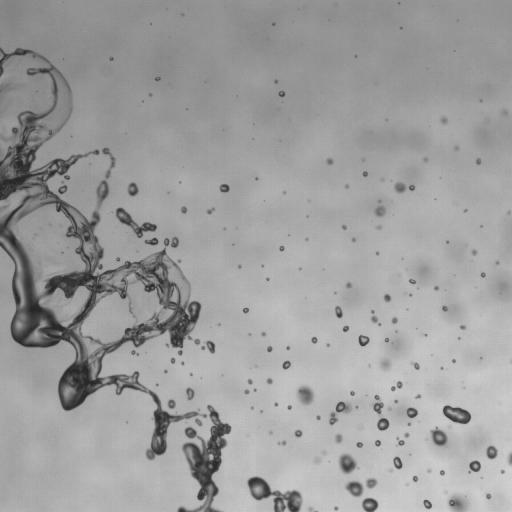droplet: (442, 405, 471, 424), (0, 82, 20, 105), (338, 453, 358, 474), (296, 385, 314, 405), (430, 427, 447, 446), (447, 494, 466, 511), (345, 480, 363, 497), (361, 497, 378, 511), (201, 340, 215, 353), (127, 182, 138, 196), (486, 445, 497, 459), (380, 358, 391, 370), (469, 460, 480, 472), (358, 335, 369, 346), (406, 407, 417, 418), (393, 456, 402, 469), (366, 478, 377, 488), (145, 237, 158, 245), (186, 387, 194, 400), (375, 206, 385, 216), (335, 306, 342, 318), (219, 184, 229, 192), (167, 399, 175, 409), (282, 360, 290, 369), (423, 500, 431, 509), (294, 429, 302, 437), (335, 434, 342, 443), (411, 362, 419, 369), (397, 438, 404, 445), (384, 294, 390, 302), (440, 117, 447, 123), (326, 158, 333, 164), (311, 336, 317, 343), (207, 208, 213, 214), (343, 325, 349, 331), (181, 206, 186, 213), (278, 91, 284, 96), (501, 109, 507, 114), (346, 282, 351, 288), (442, 305, 447, 311), (392, 317, 397, 323), (267, 346, 272, 352), (131, 350, 137, 355), (170, 357, 175, 363), (266, 378, 272, 383), (375, 440, 380, 446), (356, 442, 362, 447), (315, 457, 320, 463), (412, 475, 417, 481), (279, 441, 286, 445), (279, 246, 284, 251), (472, 250, 477, 255), (243, 308, 248, 313), (244, 389, 249, 394), (404, 432, 409, 437), (486, 493, 491, 498), (476, 158, 480, 164), (415, 394, 421, 398), (363, 171, 367, 176), (481, 272, 485, 277), (409, 279, 414, 283), (460, 325, 465, 329), (248, 379, 252, 384), (440, 470, 444, 475), (454, 146, 458, 150), (342, 225, 346, 229), (377, 225, 381, 229), (434, 286, 438, 290), (261, 332, 265, 336), (350, 391, 354, 395), (274, 402, 278, 406), (287, 405, 291, 409), (316, 415, 320, 419), (500, 469, 504, 473), (334, 506, 338, 510), (155, 77, 159, 80), (423, 158, 427, 161), (4, 105, 7, 108), (345, 184, 348, 187), (352, 238, 355, 241), (116, 258, 119, 261), (266, 277, 269, 280), (147, 296, 150, 299), (147, 303, 150, 306), (385, 338, 388, 341), (286, 346, 289, 349), (452, 359, 455, 362), (389, 468, 392, 471), (427, 469, 430, 472), (110, 57, 112, 60), (305, 238, 308, 240), (496, 261, 498, 264), (238, 265, 241, 267), (327, 343, 329, 346), (181, 362, 184, 364), (164, 370, 167, 372), (269, 431, 272, 433), (322, 452, 325, 454), (376, 252, 378, 254), (424, 334, 426, 336), (395, 400, 397, 402), (408, 423, 410, 425)
ligament: (0, 48, 222, 511), (247, 476, 302, 511), (114, 207, 156, 237), (372, 395, 389, 430), (329, 401, 351, 425), (394, 182, 414, 193), (371, 310, 380, 325), (391, 381, 402, 391), (507, 451, 511, 466), (308, 507, 317, 511), (510, 359, 511, 362)
